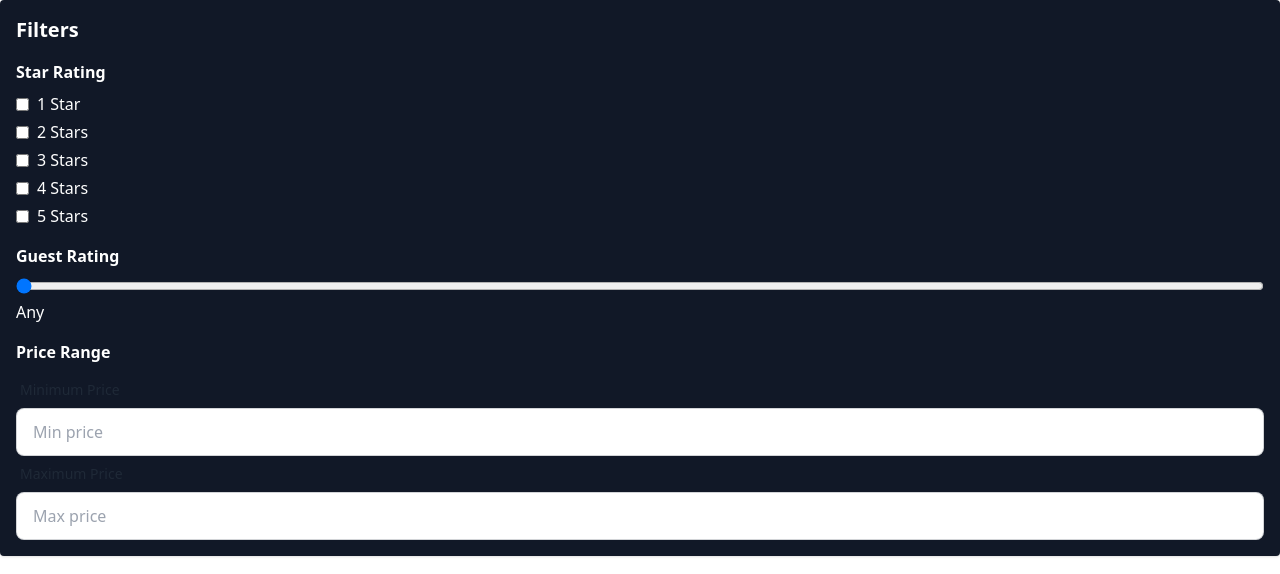
Test: FilterPanel › Guest Rating Interaction › updates displayed guest rating value
The image size is (1280, 574).
Expected: the text "Any" is shown, [16,301,44,323]
# Change slider value to 4
Set the slider to "4": (1010, 286) [16,278,1264,294]
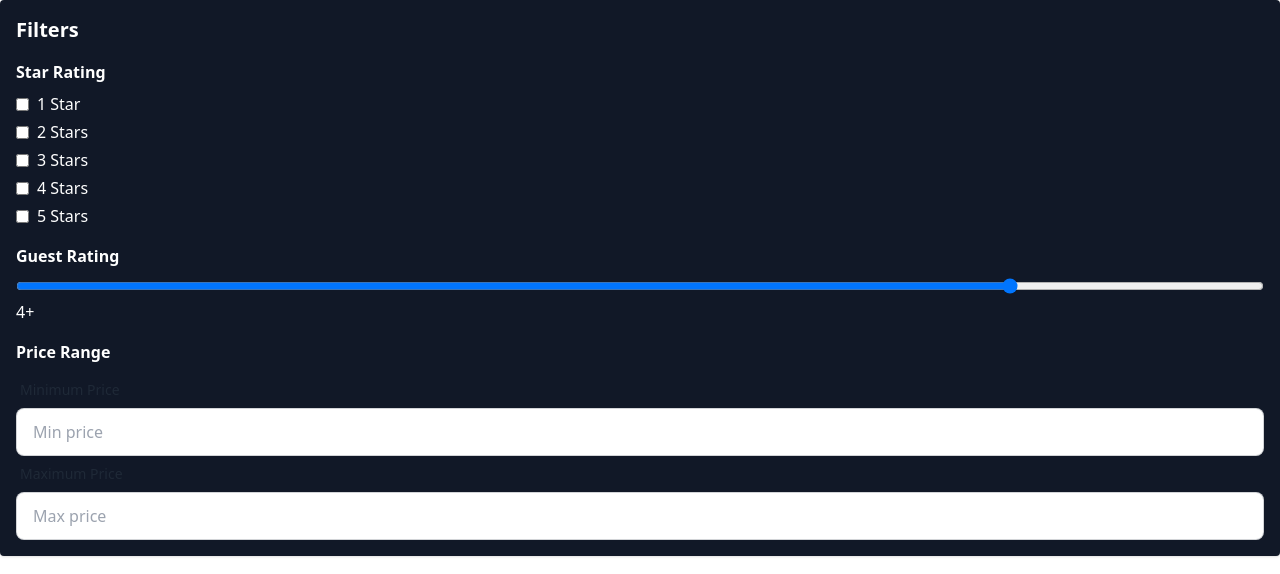
Expected: the text "4+" is shown, [16,301,34,323]
Expected: the text "Any" is gone
